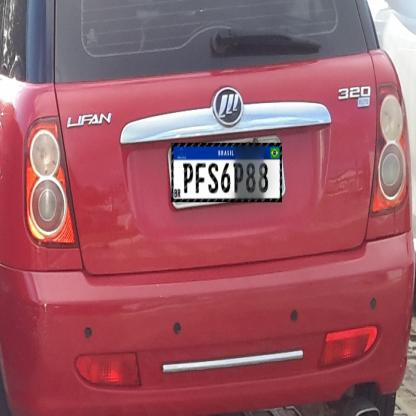PlacaM: (171, 143, 282, 202)
